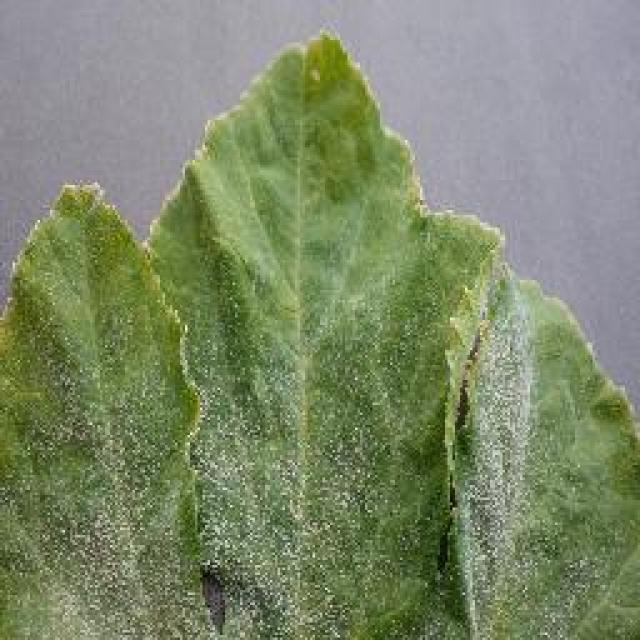Squ_Powdery_mildew: (26, 346, 438, 622), (465, 319, 569, 621)
